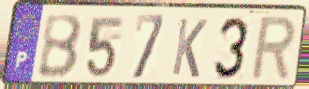3: (211, 15, 253, 82)
5: (85, 15, 127, 79)
7: (133, 12, 166, 84)
B: (36, 13, 85, 81)
K: (169, 16, 210, 80)
R: (247, 14, 299, 84)
